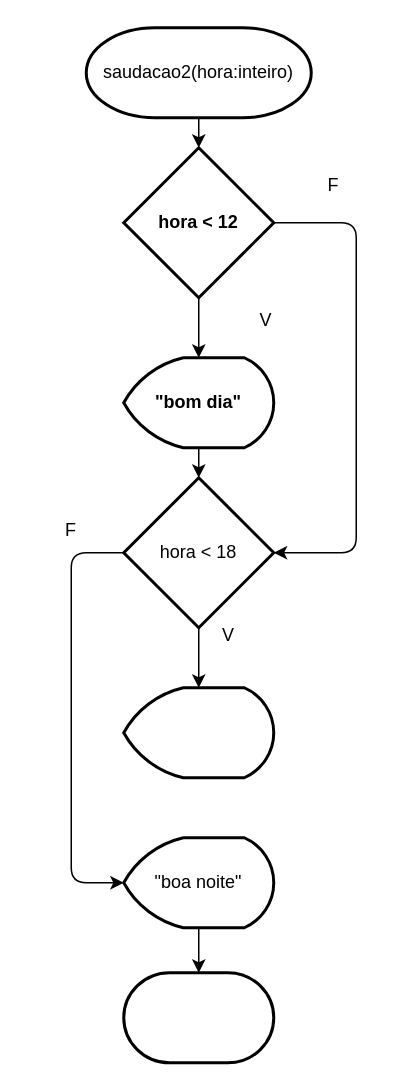
Image size: 404x1089. Some labels were removed from this diagram. The box of each missing label's shape, as (x1, y1, x2, y2) in pixels:
"boa tarde": (122, 686, 274, 778)
fim: (122, 970, 274, 1064)
